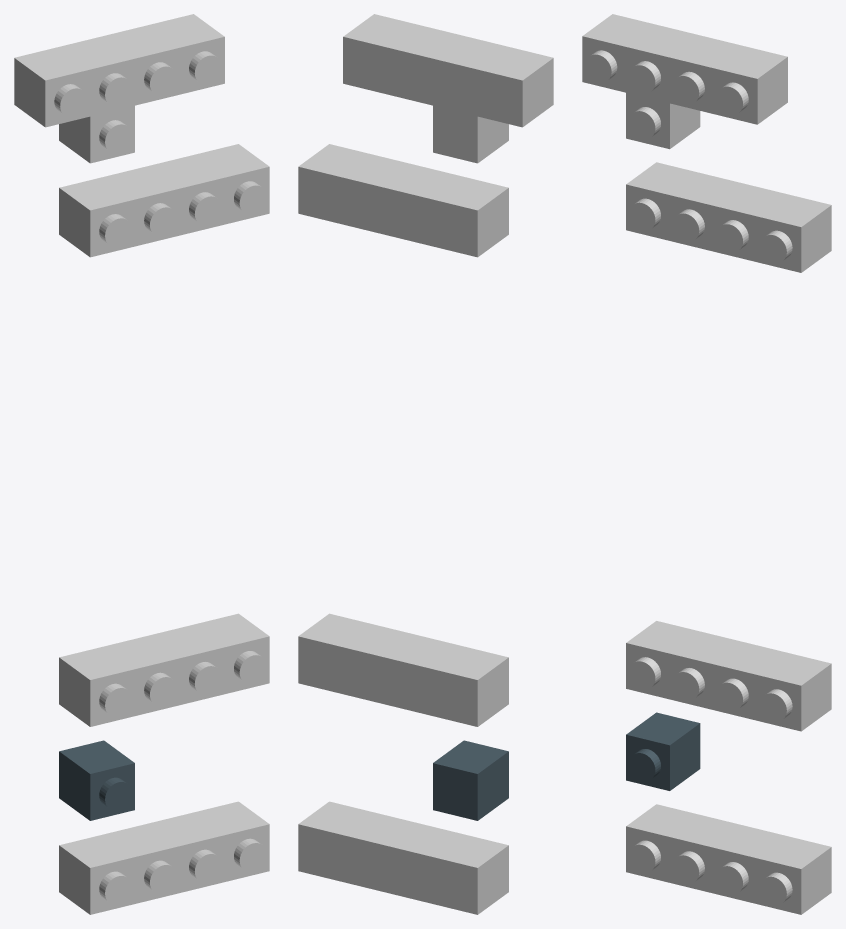
File: current.glb
The picture shows the model from 3 angles, left to right: view 1: azimuth 30°, elevation 25°; view 2: azimuth 150°, elevation 25°; view 3: azimuth 330°, elevation 25°; orthographic projection. The views are drawn at different scales.
Visible parts, largest first — view 1: world; view 2: world; view 3: world.
Boxes of the visible parts, x1,y1,x2,y2 form: world: (14,14,269,914); world: (298,14,553,914); world: (582,14,831,914).
Bounding box in the file's own units: 40 × 144 × 11.4.
